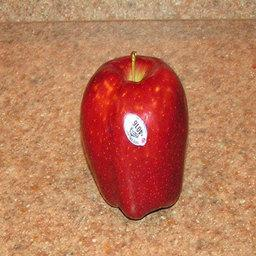apple: (77, 53, 190, 224)
